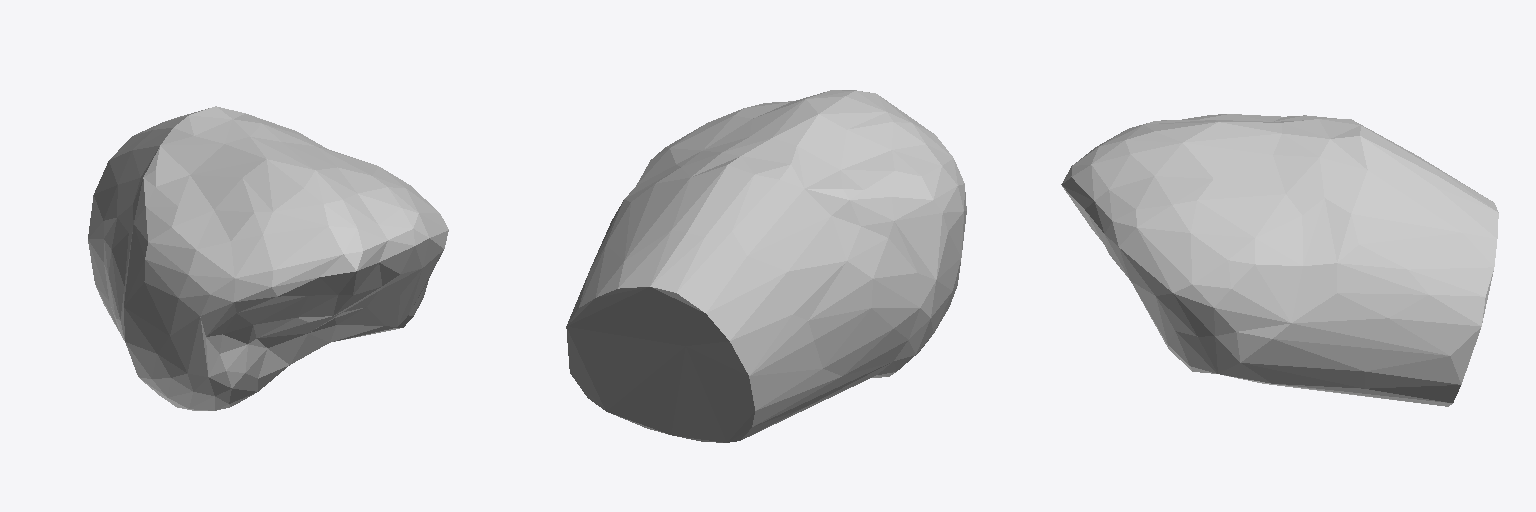
File: local_t23_7780_si.OBJ
3 views of the same model, side by side, from view 1: azimuth 30°, elevation 25°; view 2: azimuth 150°, elevation 25°; view 3: azimuth 270°, elevation 25° (orthographic).
Visible parts, largest first — view 1: Group42203; view 2: Group42203; view 3: Group42203.
Boxes of the visible parts, box(x1,y1,x2,y2) form: Group42203: box(88, 106, 448, 410); Group42203: box(566, 90, 966, 442); Group42203: box(1061, 114, 1498, 406).
Size of the model in its own units: 8.18 by 6.46 by 10.31.